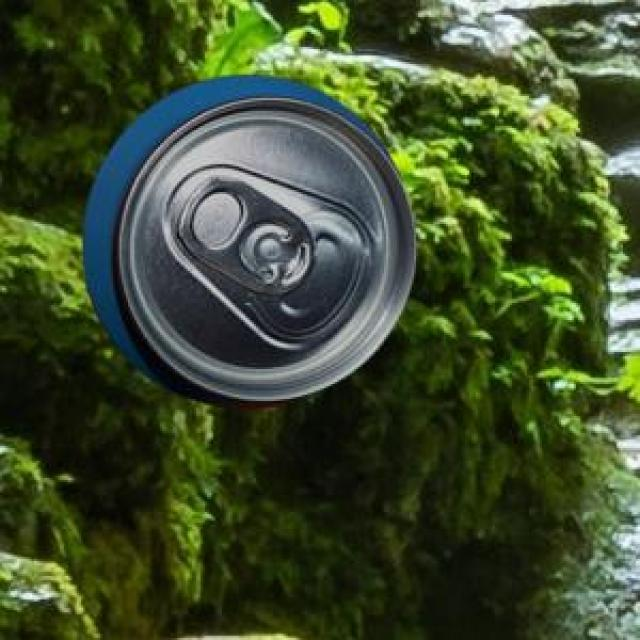Can: (82, 71, 413, 404)
